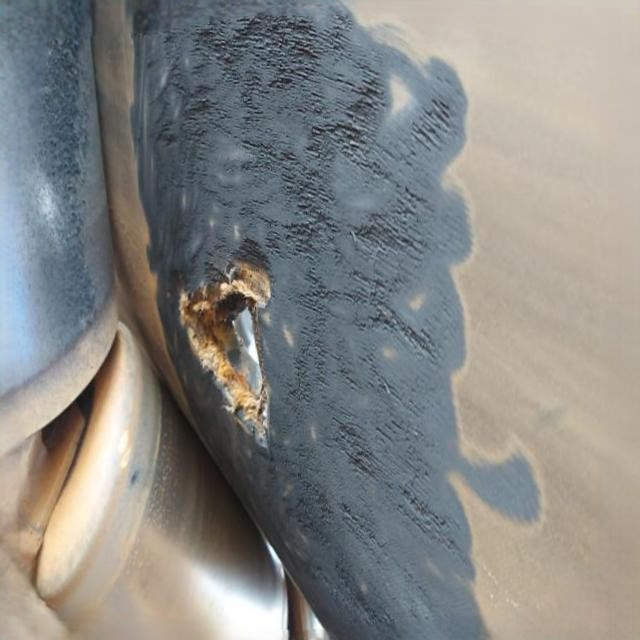Hole: (160, 236, 286, 456)
Wear: (126, 14, 473, 636)
